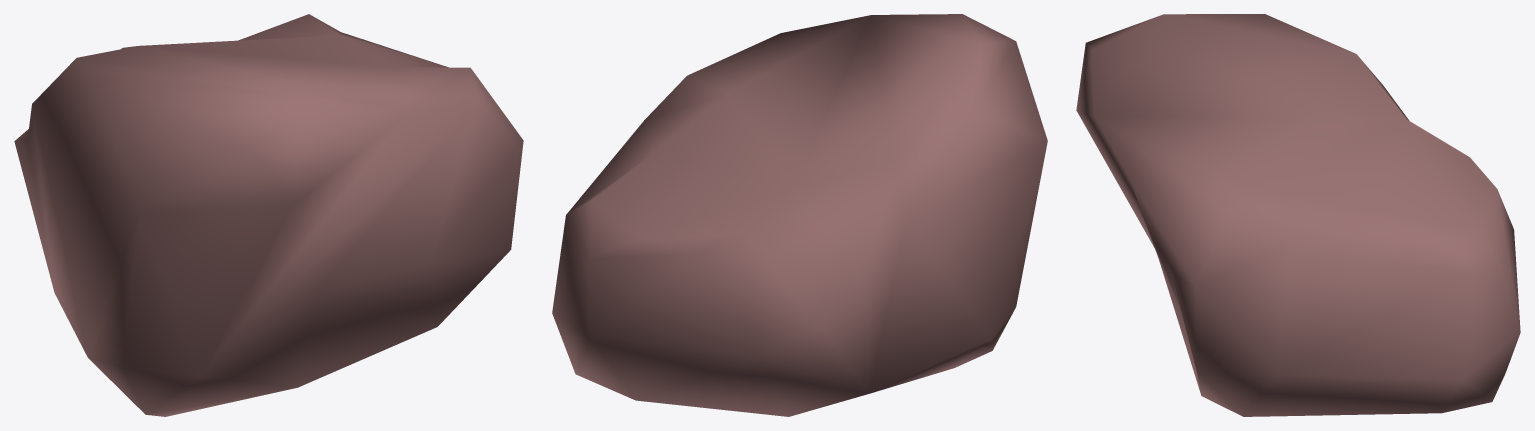
Rendered from small_rock_03.fbx.
3 views of the same model, side by side, from view 1: azimuth 30°, elevation 25°; view 2: azimuth 150°, elevation 25°; view 3: azimuth 270°, elevation 25° (orthographic). The views are drawn at different scales.
Parts seen in each view (by area): view 1: small_rock_03; view 2: small_rock_03; view 3: small_rock_03.
Boxes of the visible parts, left/top/right/bottom form: small_rock_03: left=14, top=14, right=523, bottom=416; small_rock_03: left=552, top=14, right=1047, bottom=416; small_rock_03: left=1076, top=14, right=1520, bottom=416.
Size of the model in its own units: 62.29 by 50.56 by 67.09.
